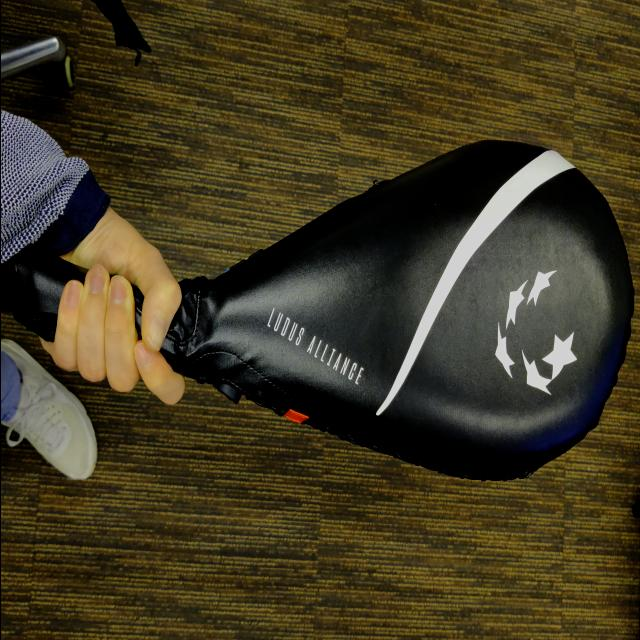paddle: (6, 130, 640, 490)
